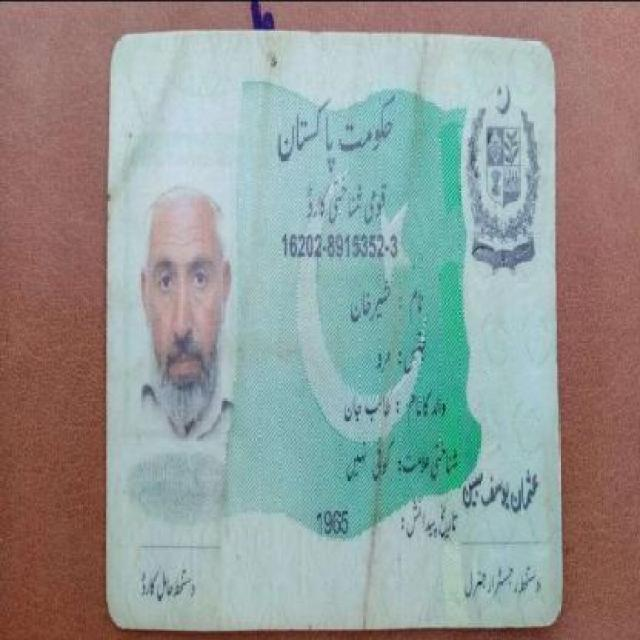Front: (103, 15, 569, 628)
